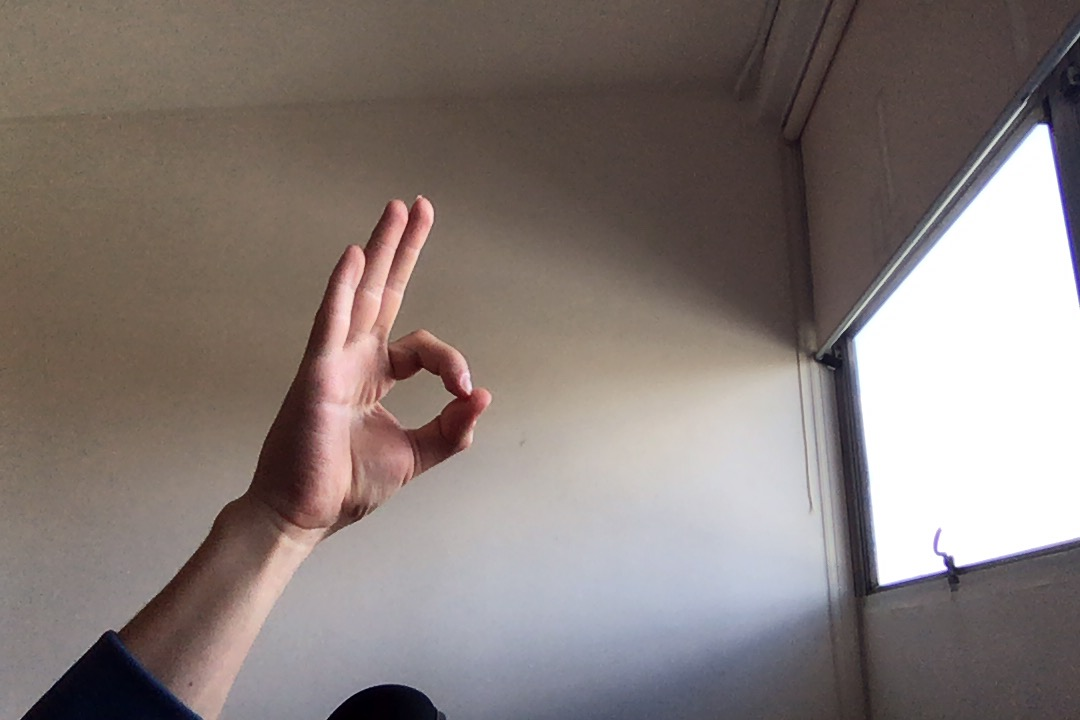oksign: (257, 183, 498, 539)
